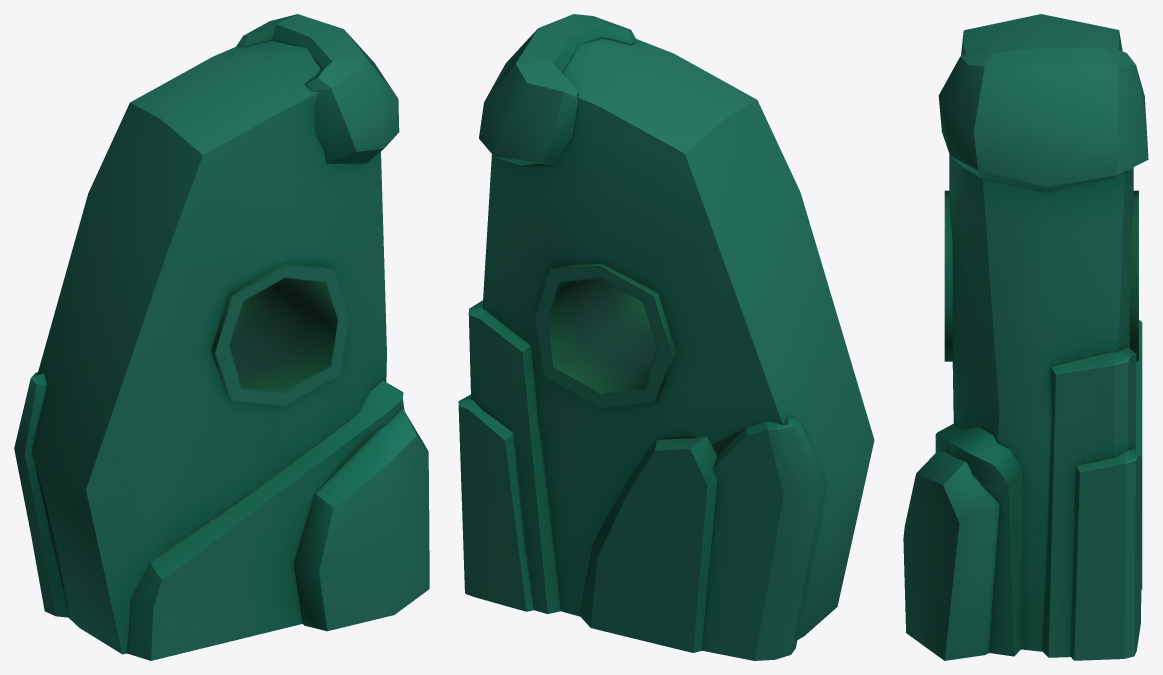
File: spiritRock.fbx
3 renders of one model, left to right at view 1: azimuth 30°, elevation 25°; view 2: azimuth 150°, elevation 25°; view 3: azimuth 270°, elevation 25°, orthographic. The views are drawn at different scales.
Visible parts, largest first — view 1: spiritRock_geo; view 2: spiritRock_geo; view 3: spiritRock_geo.
Part boxes in pixels (left/top/right/bottom): spiritRock_geo: left=14, top=14, right=429, bottom=660; spiritRock_geo: left=458, top=14, right=874, bottom=660; spiritRock_geo: left=903, top=14, right=1148, bottom=660.
Size of the model in its own units: 127 by 187 by 72.11.
1 material, 1 textured.
